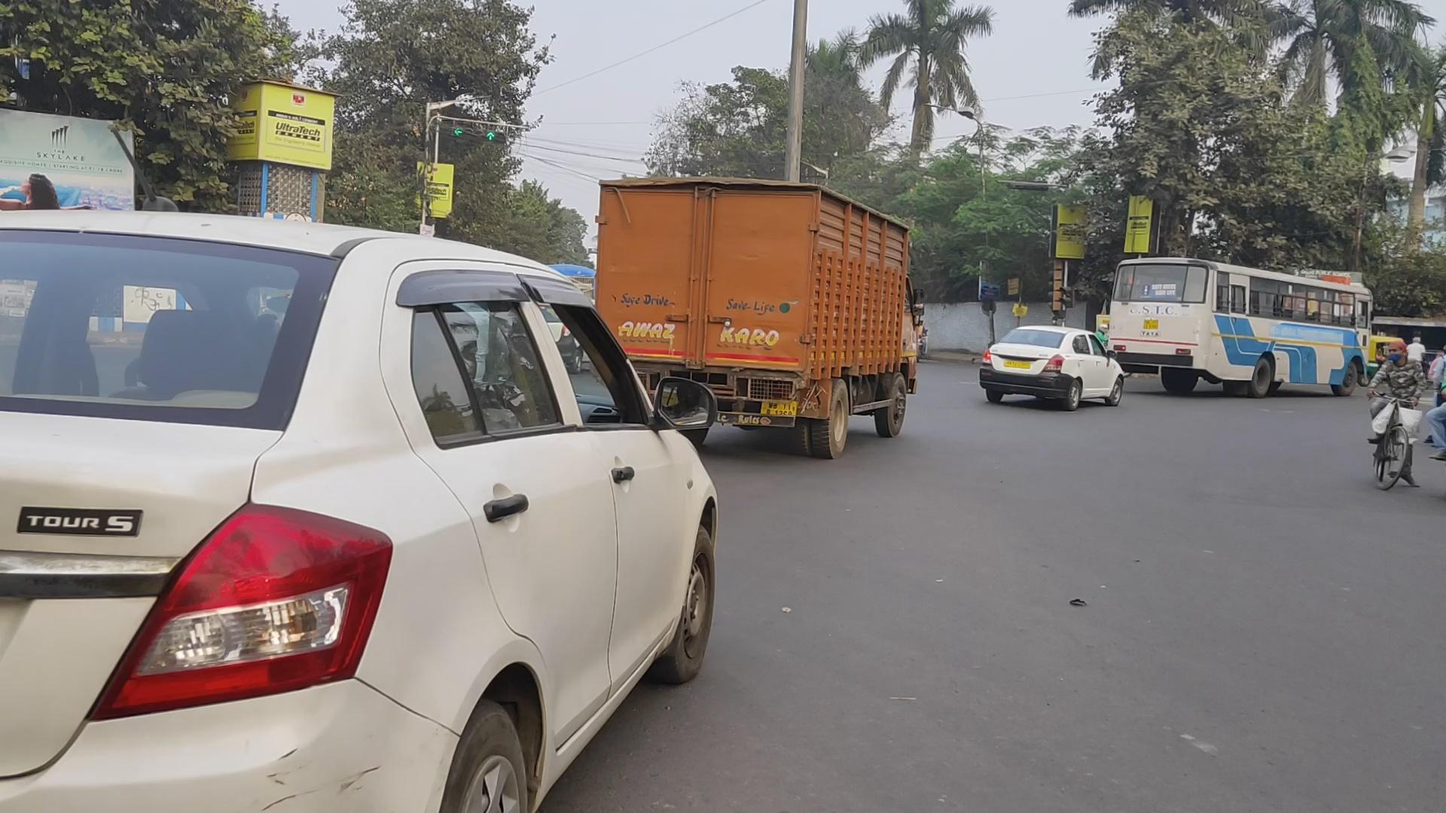Bus: (1106, 257, 1373, 397)
bike: (1367, 341, 1424, 490)
car: (1, 207, 718, 813), (980, 324, 1124, 412)
truck: (596, 176, 925, 459)
